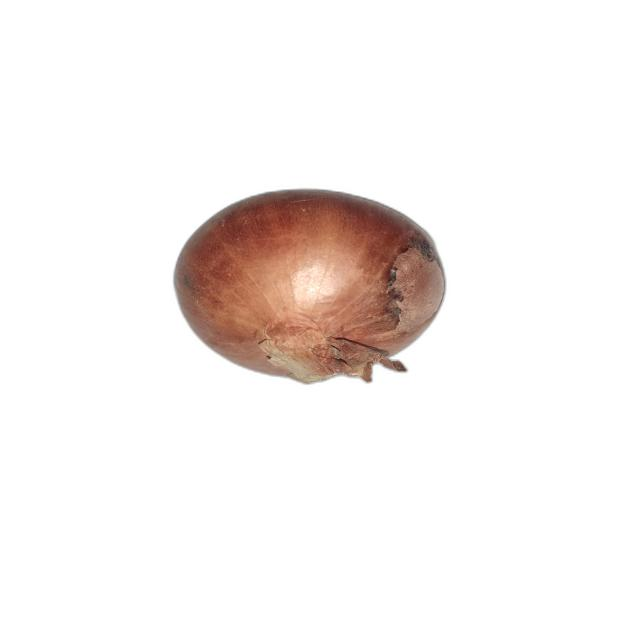onion: (173, 188, 450, 386)
